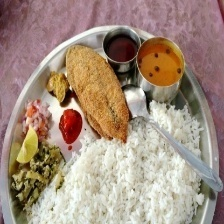rice: (55, 148, 204, 224)
